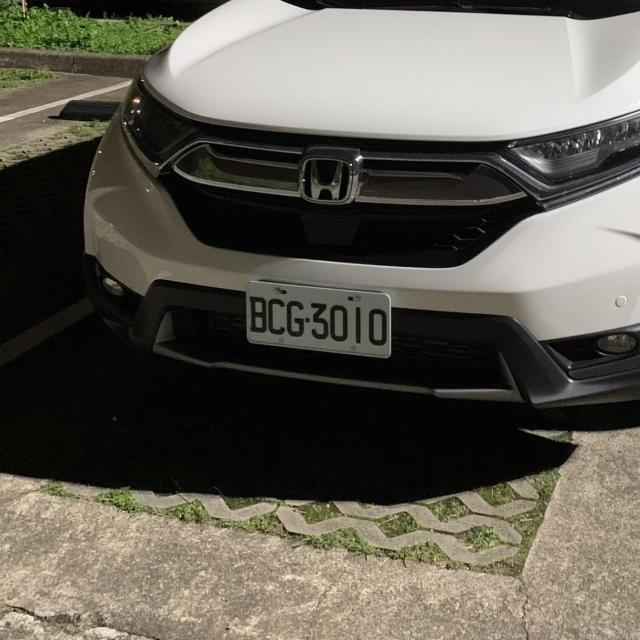W: (236, 274, 402, 365)
